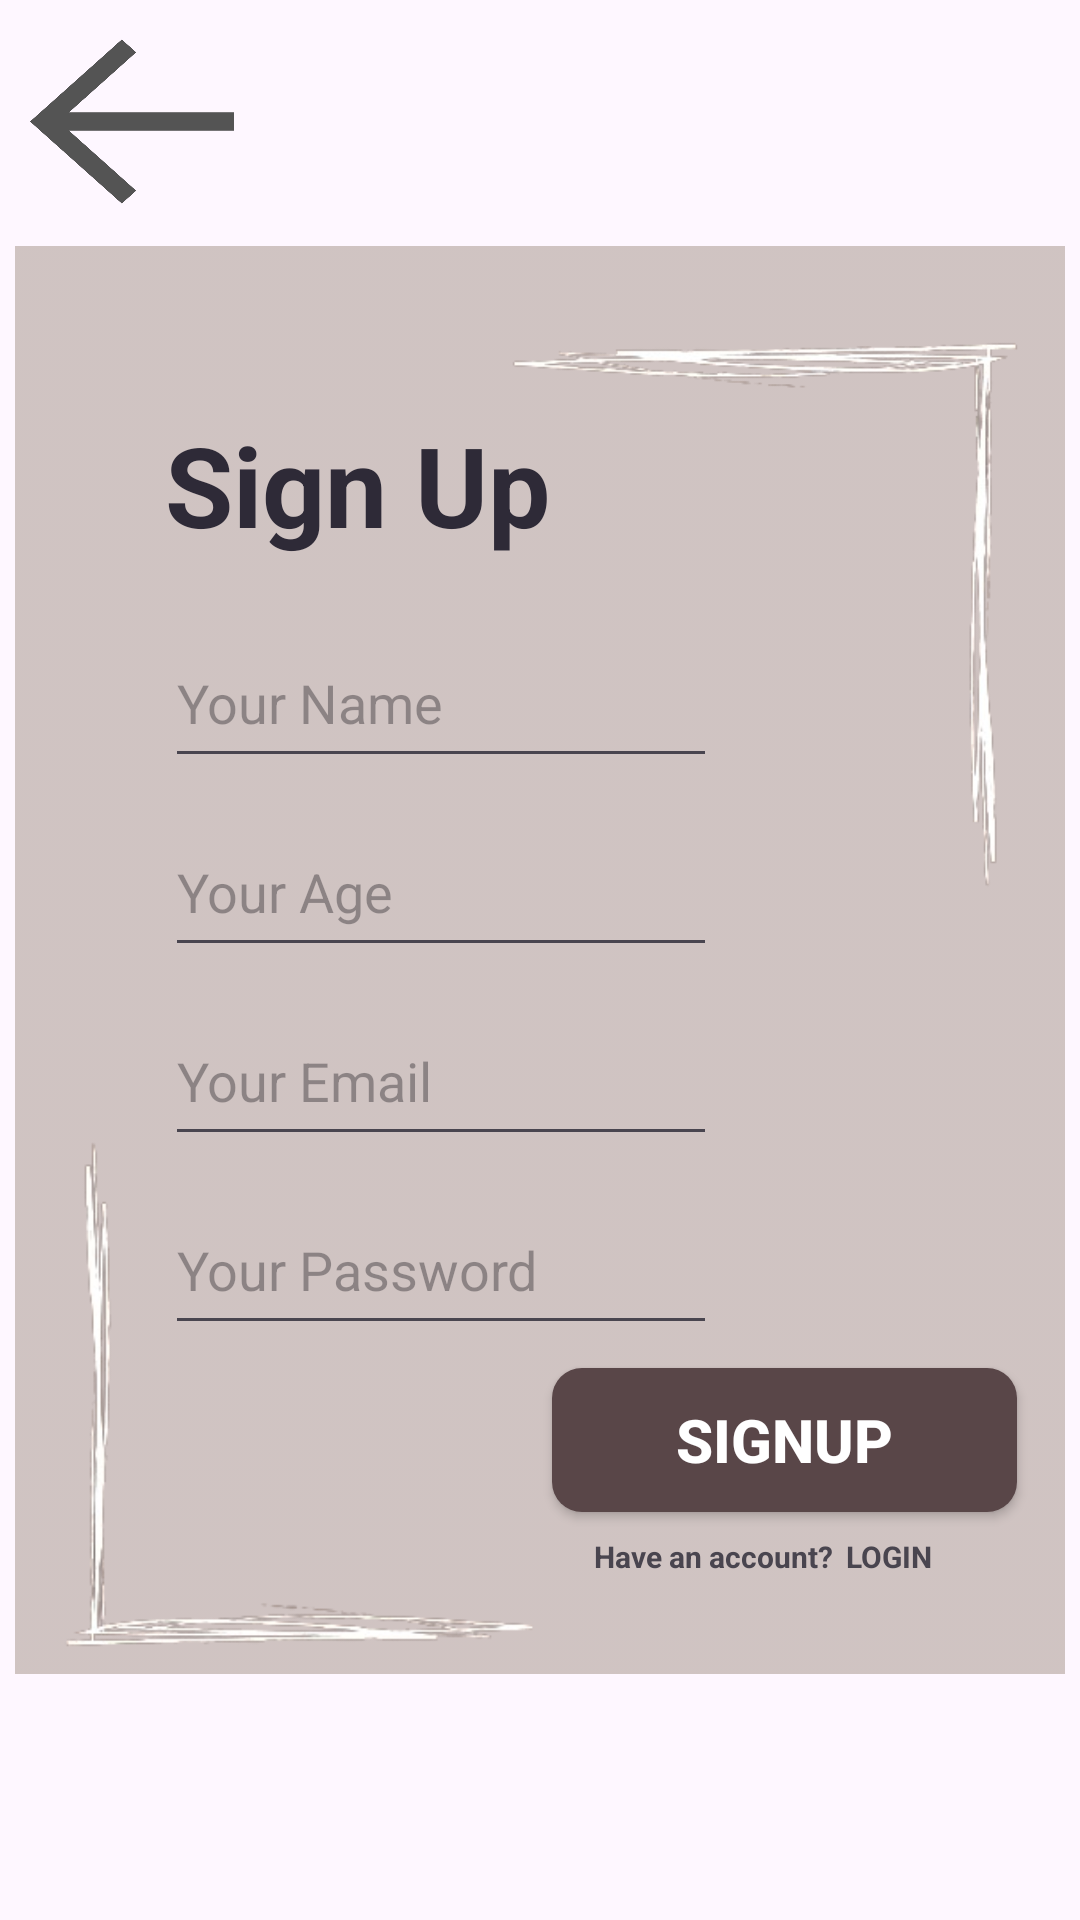

Locate icon controls on the screen. Image size 1080×1920, boxes as [x1, y1, x2, y2].
back: [30, 40, 234, 203]
